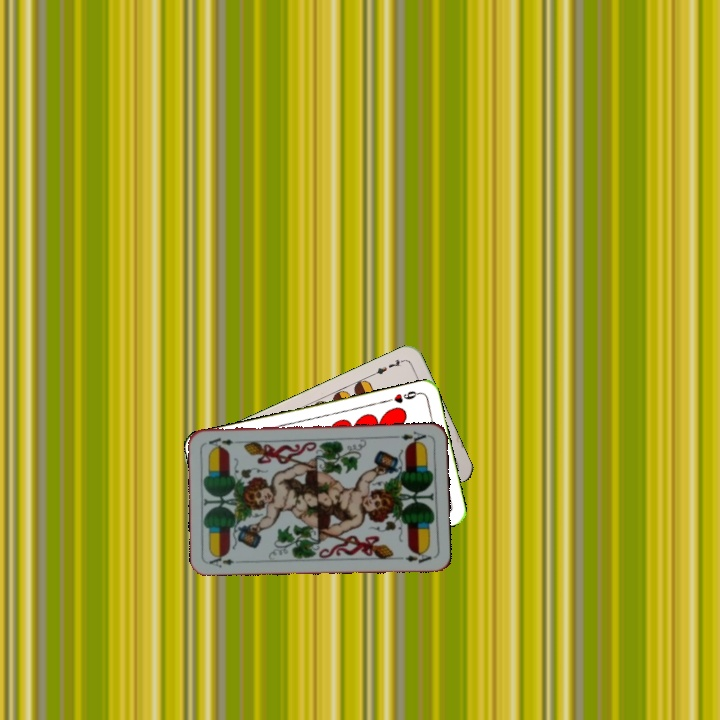E7: (368, 355, 407, 378)
EA: (205, 551, 245, 570), (397, 427, 432, 447)
H9: (382, 387, 423, 406)
